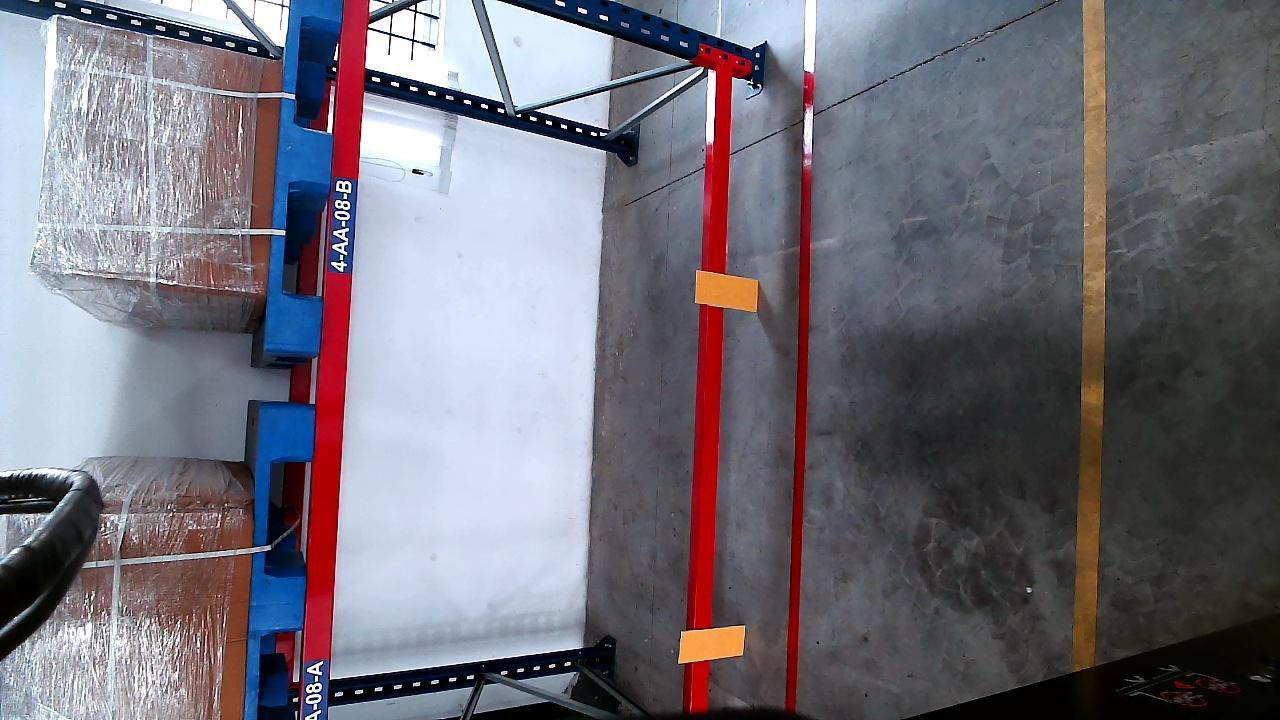red_line: (786, 0, 814, 707)
yellow_line: (1077, 0, 1105, 671)
